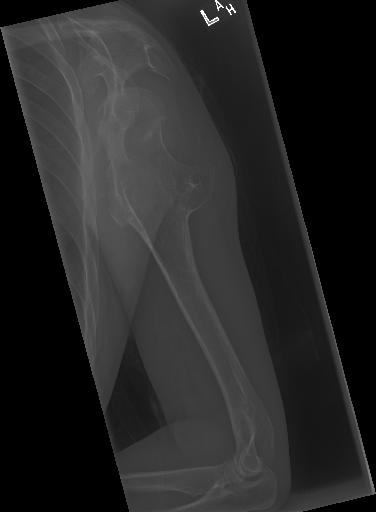humerus: (114, 143, 224, 234)
